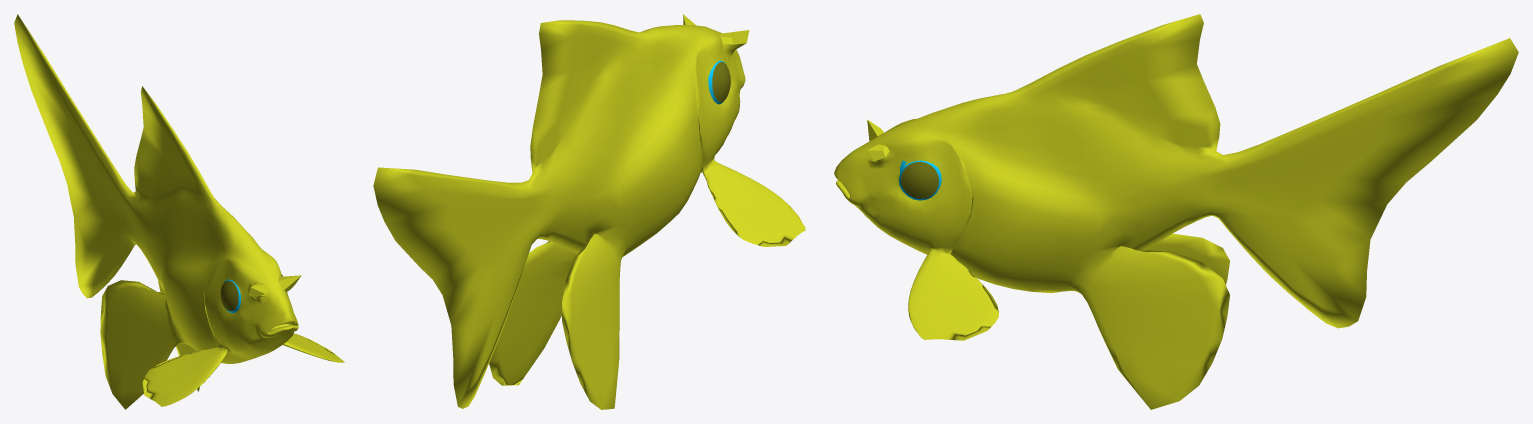
The model's file is GoldFish.obj.
3 renders of one model, left to right at view 1: azimuth 30°, elevation 25°; view 2: azimuth 150°, elevation 25°; view 3: azimuth 270°, elevation 25°, orthographic. The views are drawn at different scales.
Visible parts, largest first — view 1: gf_body, gf_iris; view 2: gf_body, gf_iris; view 3: gf_body, gf_iris.
Part boxes in pixels (x1=…): gf_body: x1=14, y1=14, x2=344, y2=409; gf_iris: x1=220, y1=274, x2=282, y2=311; gf_body: x1=373, y1=14, x2=805, y2=409; gf_iris: x1=712, y1=62, x2=730, y2=101; gf_body: x1=834, y1=14, x2=1518, y2=409; gf_iris: x1=901, y1=161, x2=939, y2=198.
Size of the model in its own units: 10.19 by 15.76 by 26.16.
